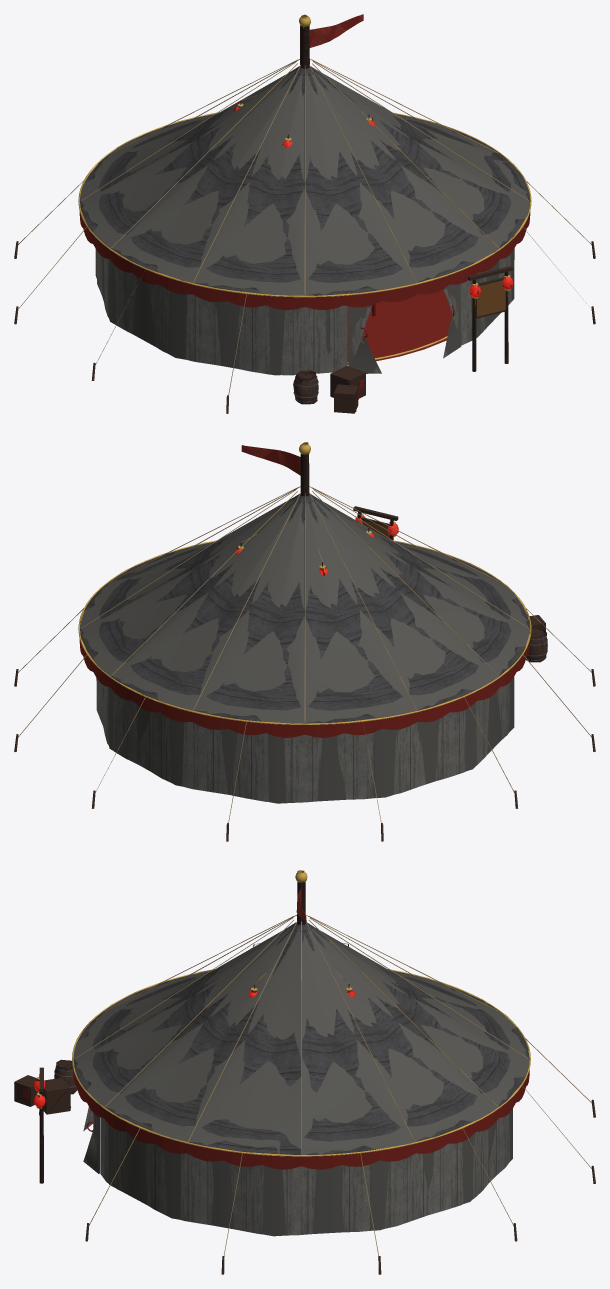
Rendered from prop_gambling_tent.gltf.
The picture shows the model from 3 angles, top to bottom: view 1: azimuth 30°, elevation 25°; view 2: azimuth 150°, elevation 25°; view 3: azimuth 270°, elevation 25°; orthographic projection.
Visible parts, largest first — view 1: Far, Near; view 2: Far, Near; view 3: Far, Near.
Boxes of the visible parts, x1,y1,x2,y2 form: Far: [17, 14, 592, 413]; Near: [14, 14, 595, 413]; Far: [17, 442, 592, 823]; Near: [14, 443, 595, 841]; Far: [14, 870, 593, 1256]; Near: [14, 871, 595, 1274].
Size of the model in its own units: 14.08 by 7.35 by 13.9.
15 materials, 8 textured.
